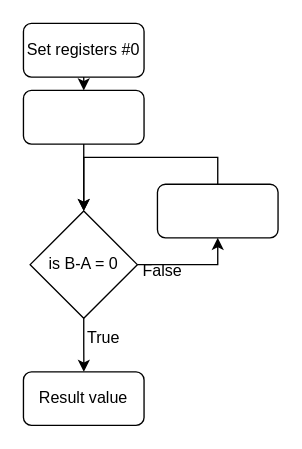
Image size: 302x449. Some labels were removed from this diagram. Here are the shapes that lost their labels. From the top down, the centre of each, then its label:
point 83,116: Load A & B
point 217,210: A++ and B--
